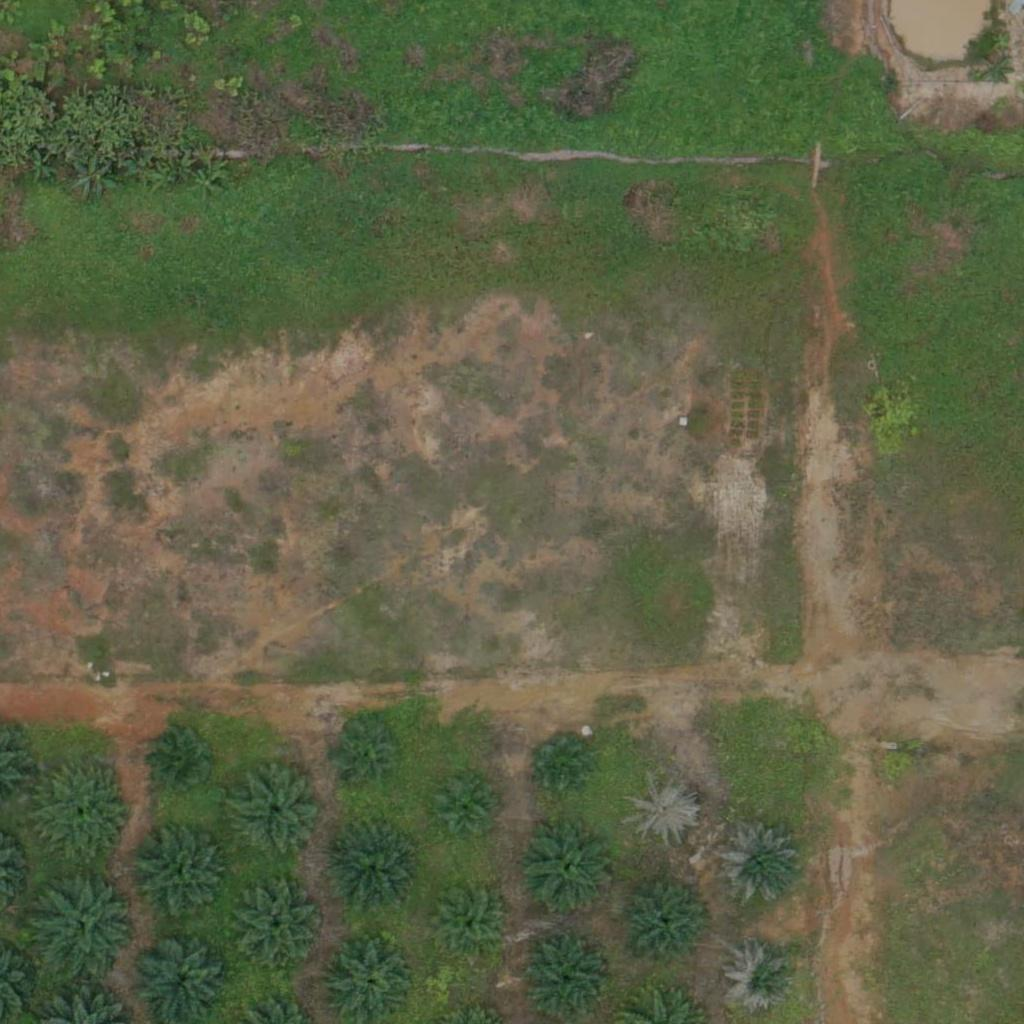Kelapa_Sawit: (34, 765, 134, 866), (36, 871, 136, 972), (130, 823, 230, 924), (227, 761, 327, 862), (519, 819, 619, 919), (618, 873, 718, 973), (235, 885, 323, 974), (329, 828, 417, 916), (714, 821, 802, 909), (625, 772, 700, 848), (726, 942, 801, 1018), (431, 891, 506, 966), (336, 724, 399, 787), (433, 771, 496, 834), (153, 726, 216, 789), (529, 732, 591, 794)
